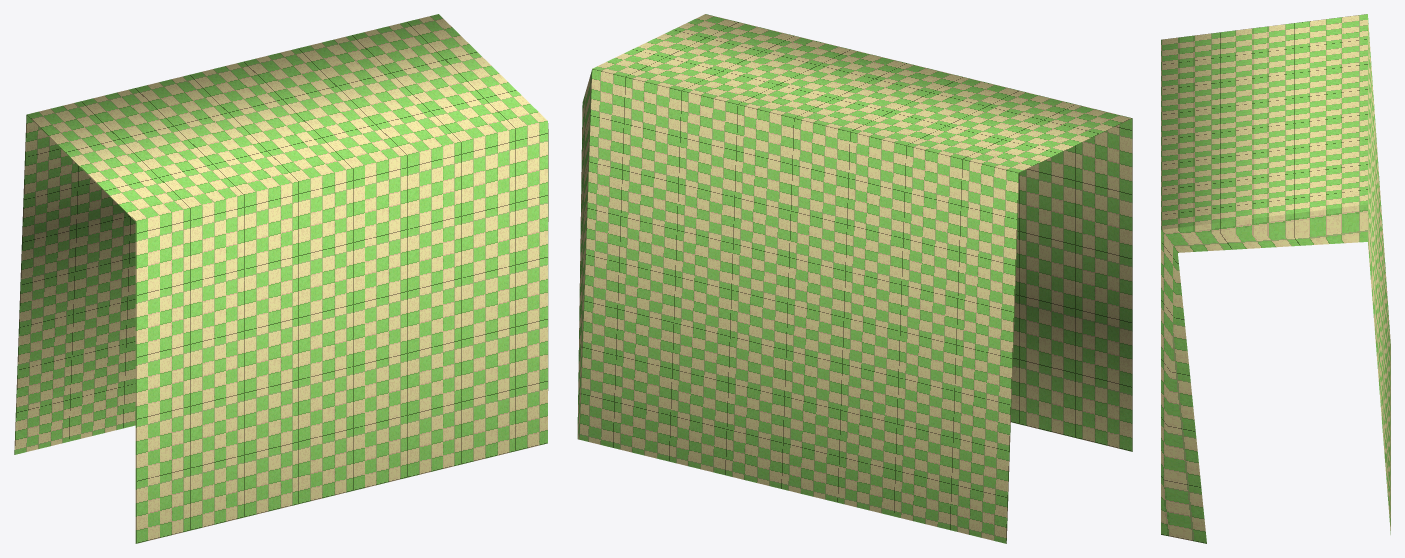
The model's file is 4623floor000_c.gltf.
3 renders of one model, left to right at view 1: azimuth 30°, elevation 25°; view 2: azimuth 150°, elevation 25°; view 3: azimuth 270°, elevation 25°, orthographic. The views are drawn at different scales.
Parts seen in each view (by area): view 1: 4623floor000_c; view 2: 4623floor000_c; view 3: 4623floor000_c.
Part boxes in pixels (x1,y1,x2,y2): 4623floor000_c: (14,14,548,543); 4623floor000_c: (577,14,1132,543); 4623floor000_c: (1161,14,1390,543).
Bounding box in the file's own units: 2.05 × 1.59 × 1.
Materials: 1 (1 with a texture image).
